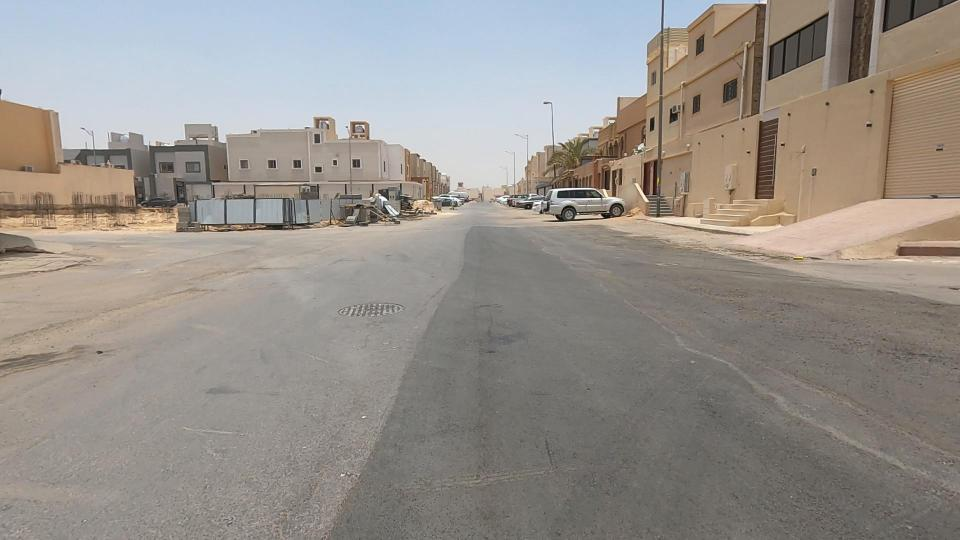GARBAGE: (347, 187, 423, 239), (326, 185, 389, 239)
SAND_ON_ROAD: (392, 167, 460, 240)
